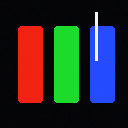4 line_v: (95, 12, 97, 60)
